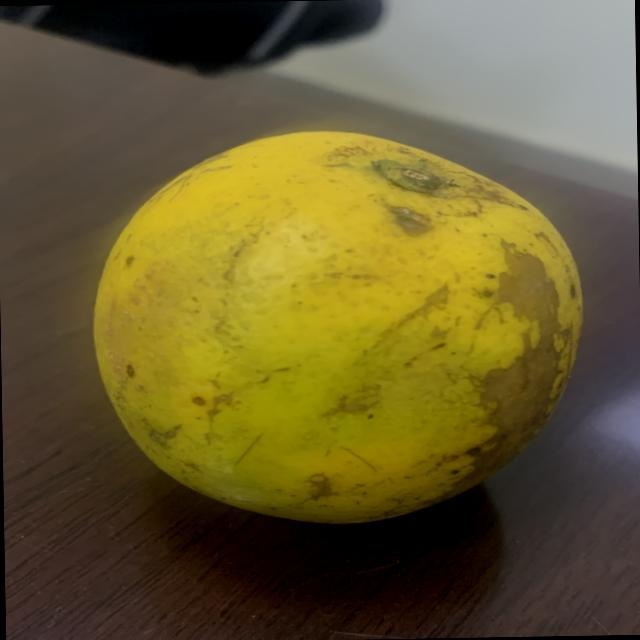agrume: (85, 116, 607, 544)
